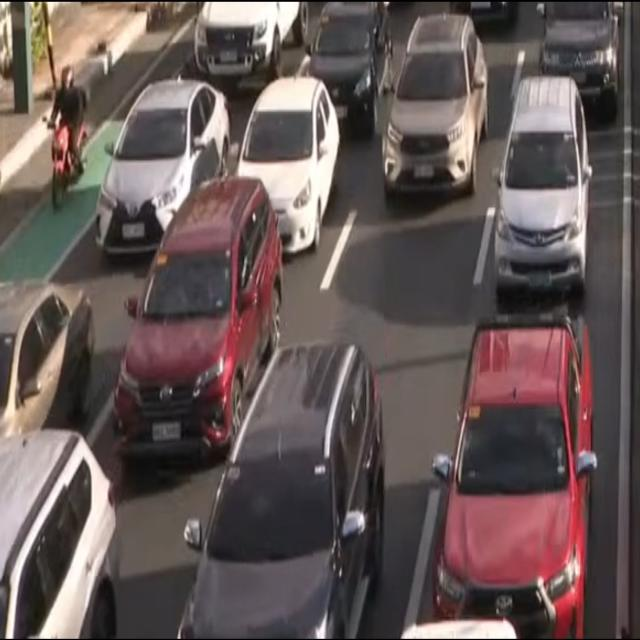Motorcycle: (41, 56, 90, 225)
SUV: (180, 345, 384, 640), (434, 304, 593, 640), (116, 180, 284, 460), (0, 434, 118, 640), (494, 75, 590, 306), (383, 14, 490, 199), (535, 1, 626, 118), (190, 0, 308, 77)
Sedan: (91, 80, 230, 266), (233, 72, 339, 256), (0, 279, 94, 436), (304, 2, 393, 133)
